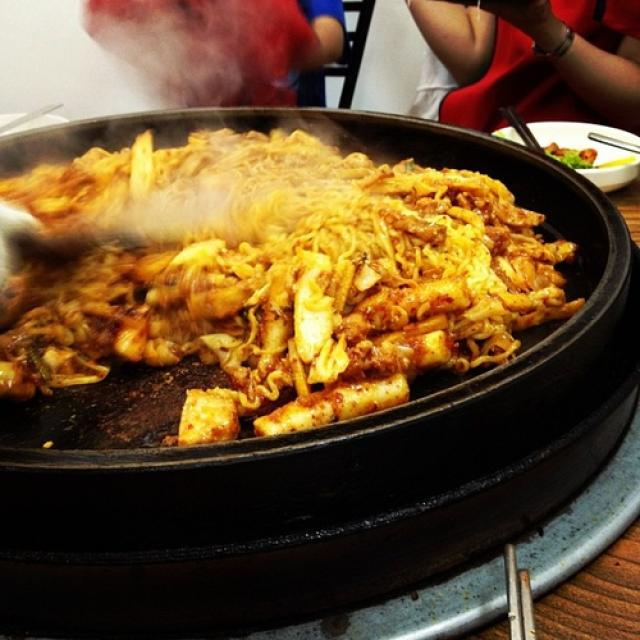鸡肉料理 含炸鸡: (4, 39, 634, 620)
